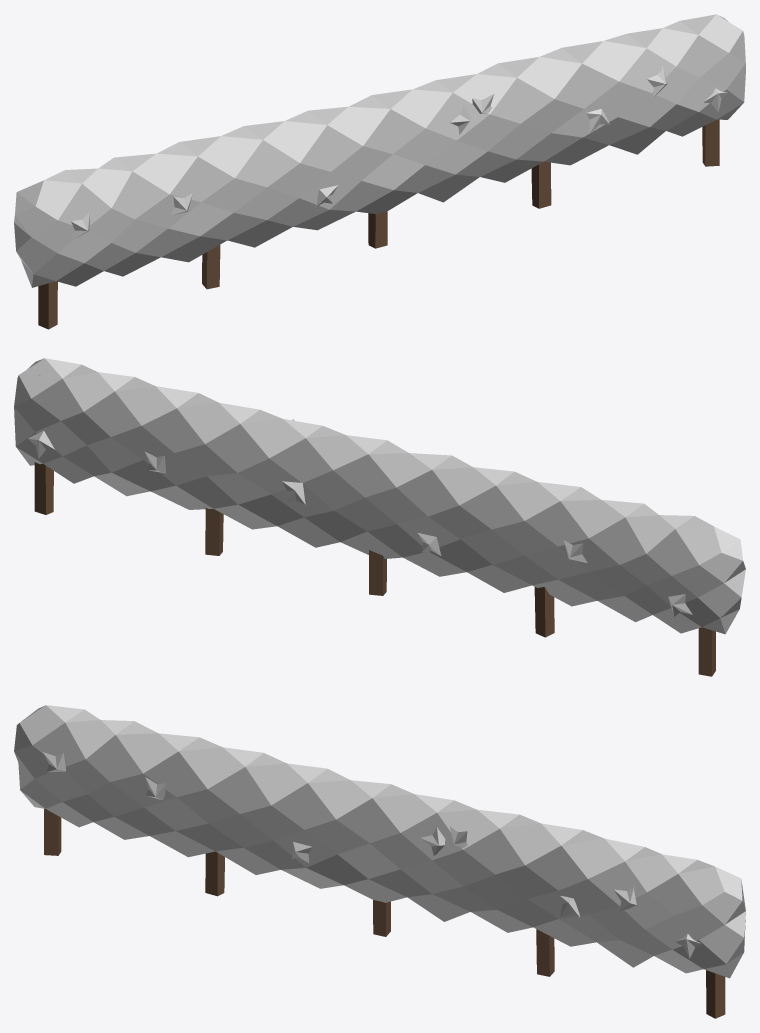
File: fence-vineyard03.fbx
3 views of the same model, one above another, from view 1: azimuth 30°, elevation 25°; view 2: azimuth 150°, elevation 25°; view 3: azimuth 330°, elevation 25° (orthographic).
Parts seen in each view (by area): view 1: fence-vineyard03; view 2: fence-vineyard03; view 3: fence-vineyard03.
Boxes of the visible parts, x1=… form: fence-vineyard03: x1=14, y1=14, x2=745, y2=329; fence-vineyard03: x1=14, y1=358, x2=745, y2=676; fence-vineyard03: x1=14, y1=705, x2=745, y2=1018.
Bounding box in the file's own units: 11 × 1 × 2.17.
